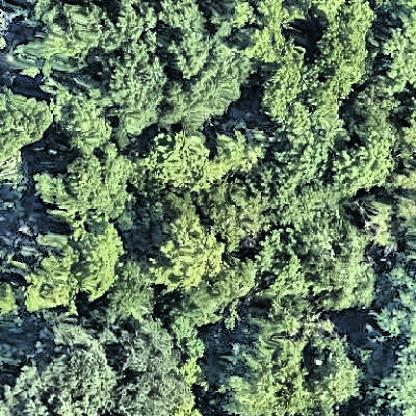tree-top: (4, 323, 187, 416), (227, 306, 362, 416), (30, 145, 136, 229), (15, 2, 105, 84), (137, 129, 245, 193), (108, 43, 174, 140), (144, 223, 233, 292), (316, 3, 378, 101), (234, 162, 328, 225), (300, 217, 363, 299), (53, 84, 120, 161), (71, 222, 126, 310), (1, 89, 61, 166), (195, 40, 257, 114), (161, 4, 221, 80), (226, 1, 291, 69), (329, 127, 393, 196), (23, 246, 79, 317), (175, 285, 226, 359), (245, 238, 297, 304), (367, 346, 416, 415), (261, 59, 307, 132), (106, 258, 154, 325), (382, 18, 416, 93)
